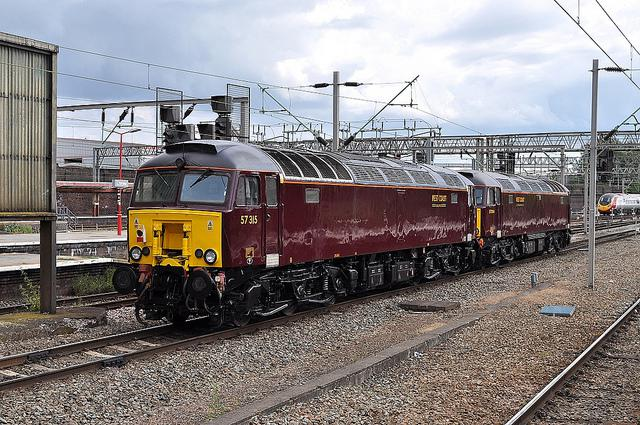Train: (114, 122, 579, 330), (597, 193, 640, 218)
